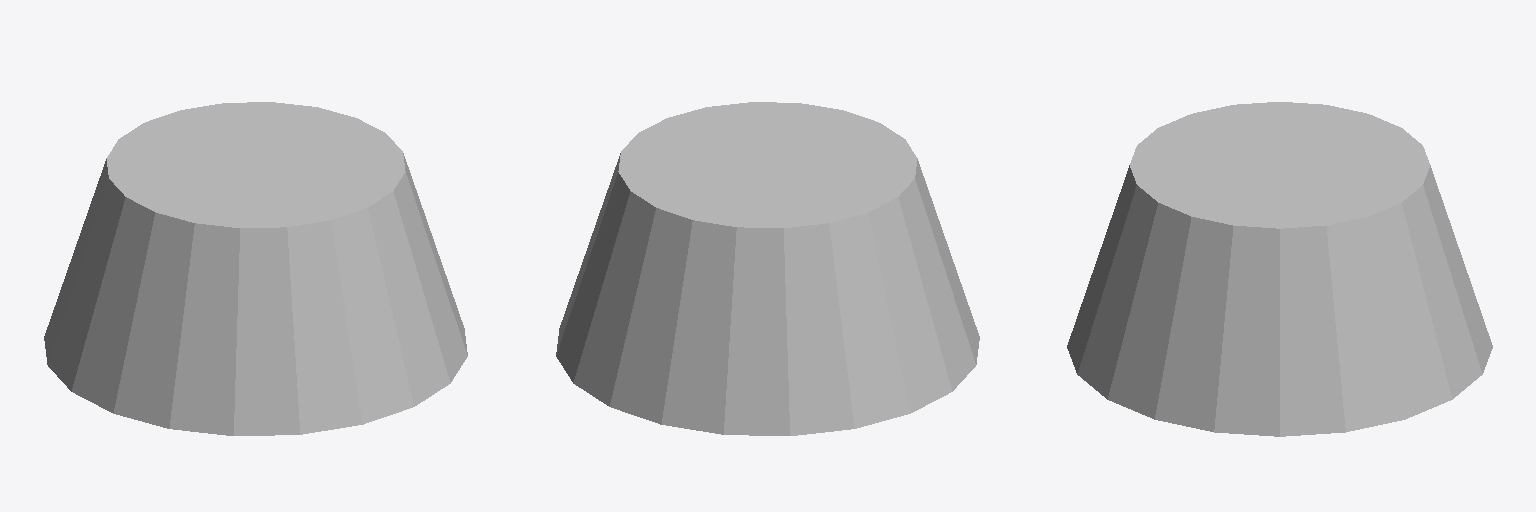
Rendered from Mirror_Base.obj.
3 renders of one model, left to right at view 1: azimuth 30°, elevation 25°; view 2: azimuth 150°, elevation 25°; view 3: azimuth 270°, elevation 25°, orthographic.
Bounding box in the file's own units: 6.89 × 3.24 × 6.89.